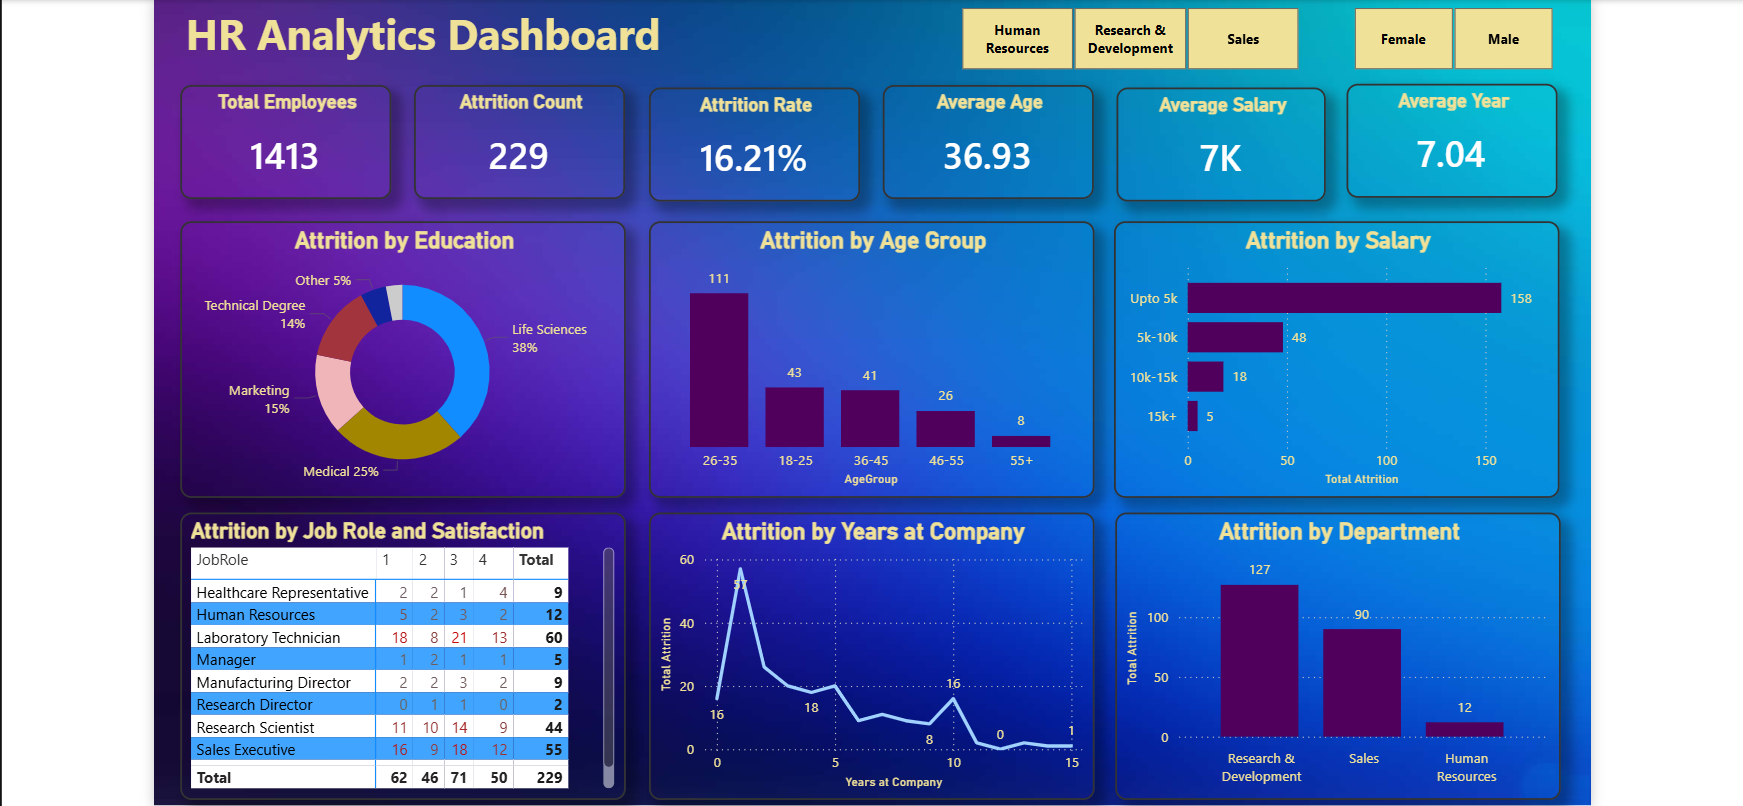

What the dashboard file says about the page in this screenshot:
{"tool":"powerbi","page":{"name":"Page 1","canvas":[1280,720],"ordinal":0},"visuals":[{"type":"cardVisual","title":"Total Employees","fields":{"Data":["Sum(HR_Analytics.EmployeeCount)"]},"box":[22.9,76.2,187.8,101.6],"z":0},{"type":"cardVisual","title":"Attrition Count","fields":{"Data":["Sum(HR_Analytics.Attrition Count)"]},"box":[231.6,76.2,187.8,101.6],"z":1000},{"type":"cardVisual","title":"Attrition Rate","fields":{"Data":["HR_Analytics.Attrition Rate"]},"box":[440.3,77.5,187.8,101.6],"z":2000},{"type":"cardVisual","title":"Average Age","fields":{"Data":["Avg(HR_Analytics.Age)"]},"box":[649,76.2,187.8,101.6],"z":3000},{"type":"cardVisual","title":"Average Salary","fields":{"Data":["Avg(HR_Analytics.MonthlyIncome)"]},"box":[856.8,77.9,186.6,101.5],"z":4000},{"type":"cardVisual","title":"Average Year","fields":{"Data":["Avg(HR_Analytics.YearsAtCompany)"]},"box":[1062.2,74.8,187.8,101.6],"z":5000},{"type":"donutChart","title":"Attrition by Education","fields":{"Y":["Sum(HR_Analytics.Attrition Count)"],"Category":["HR_Analytics.EducationField"]},"box":[22.9,197.2,396.5,246.3],"z":6000},{"type":"clusteredColumnChart","title":"Attrition by Age Group","fields":{"Y":["Sum(HR_Analytics.Attrition Count)"],"Category":["HR_Analytics.AgeGroup"]},"box":[440.3,197.2,396.5,246.3],"z":7000},{"type":"clusteredBarChart","title":"Attrition by Salary","fields":{"Y":["Sum(HR_Analytics.Attrition Count)"],"Category":["HR_Analytics.SalarySlab"]},"box":[854.9,197.2,396.5,246.3],"z":8000},{"type":"clusteredColumnChart","title":"Attrition by Department","fields":{"Y":["Sum(HR_Analytics.Attrition Count)"],"Category":["HR_Analytics.Department"]},"box":[856.3,456,396.5,256],"z":9000},{"type":"lineChart","title":"Attrition by Years at Company","fields":{"Category":["HR_Analytics.YearsAtCompany"],"Y":["Sum(HR_Analytics.Attrition Count)"]},"box":[440.3,456,396.5,256],"z":10000},{"type":"pivotTable","title":"Attrition by Job Role and Satisfaction","fields":{"Rows":["HR_Analytics.JobRole"],"Columns":["HR_Analytics.JobSatisfaction"],"Values":["Sum(HR_Analytics.Attrition Count)"]},"box":[22.9,456,396.5,256],"z":11000},{"type":"slicer","fields":{"Values":["HR_Analytics.Gender"]},"box":[1042.9,0,226.4,68.6],"z":12000},{"type":"slicer","fields":{"Values":["HR_Analytics.Department"]},"box":[693,0,349.9,68.6],"z":13000},{"type":"textbox","box":[23.3,0,446,68.6],"z":14000}]}

Visuals, with their boxes on the page's 1280x720 design canvas (x1, y1, x2, y2). These are canvas units, not pixel positions in the 1743x806 screenshot, which may show the page scaled, cropped or inside an application window:
"Total Employees" cardVisual: (23, 76, 211, 178)
"Attrition Count" cardVisual: (232, 76, 419, 178)
"Attrition Rate" cardVisual: (440, 78, 628, 179)
"Average Age" cardVisual: (649, 76, 837, 178)
"Average Salary" cardVisual: (857, 78, 1043, 179)
"Average Year" cardVisual: (1062, 75, 1250, 176)
"Attrition by Education" donutChart: (23, 197, 419, 444)
"Attrition by Age Group" clusteredColumnChart: (440, 197, 837, 444)
"Attrition by Salary" clusteredBarChart: (855, 197, 1251, 444)
"Attrition by Department" clusteredColumnChart: (856, 456, 1253, 712)
"Attrition by Years at Company" lineChart: (440, 456, 837, 712)
"Attrition by Job Role and Satisfaction" pivotTable: (23, 456, 419, 712)
slicer - HR_Analytics.Gender: (1043, 0, 1269, 69)
slicer - HR_Analytics.Department: (693, 0, 1043, 69)
textbox: (23, 0, 469, 69)
